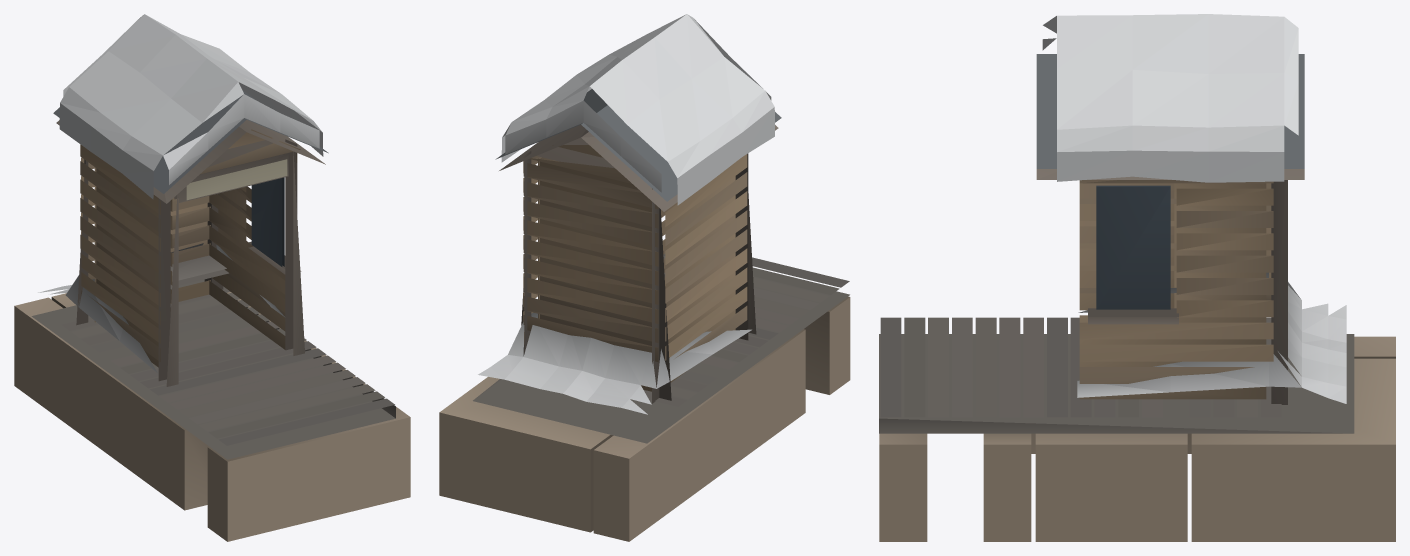
File: starthut.lod.glb
The picture shows the model from 3 angles, left to right: view 1: azimuth 30°, elevation 25°; view 2: azimuth 150°, elevation 25°; view 3: azimuth 270°, elevation 25°; orthographic projection. The views are drawn at different scales.
Visible parts, largest first — view 1: starthut; view 2: starthut; view 3: starthut.
Part boxes in pixels (<box>): starthut: <box>14,14,410,541</box>; starthut: <box>439,14,850,541</box>; starthut: <box>879,14,1395,541</box>.
Bounding box in the file's own units: 2.47 × 4.98 × 4.96.
